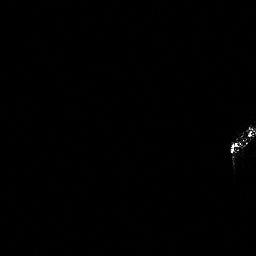ship: (226, 123, 256, 157)
